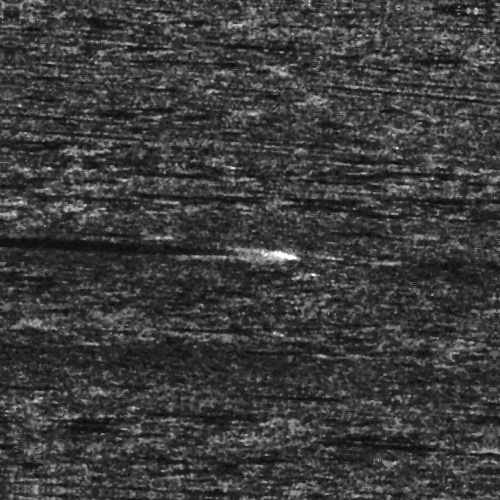object: (218, 409, 311, 420), (227, 164, 268, 187), (330, 390, 383, 395), (249, 246, 280, 253), (130, 202, 171, 205)
shadow: (149, 164, 247, 187), (0, 246, 264, 253), (124, 409, 264, 420), (220, 390, 356, 395), (171, 195, 270, 198), (99, 202, 150, 205)
